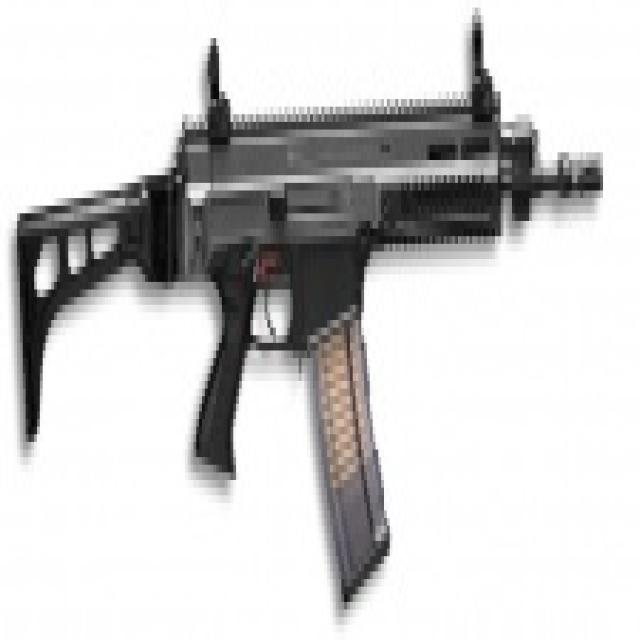rifle: (9, 18, 613, 629)
